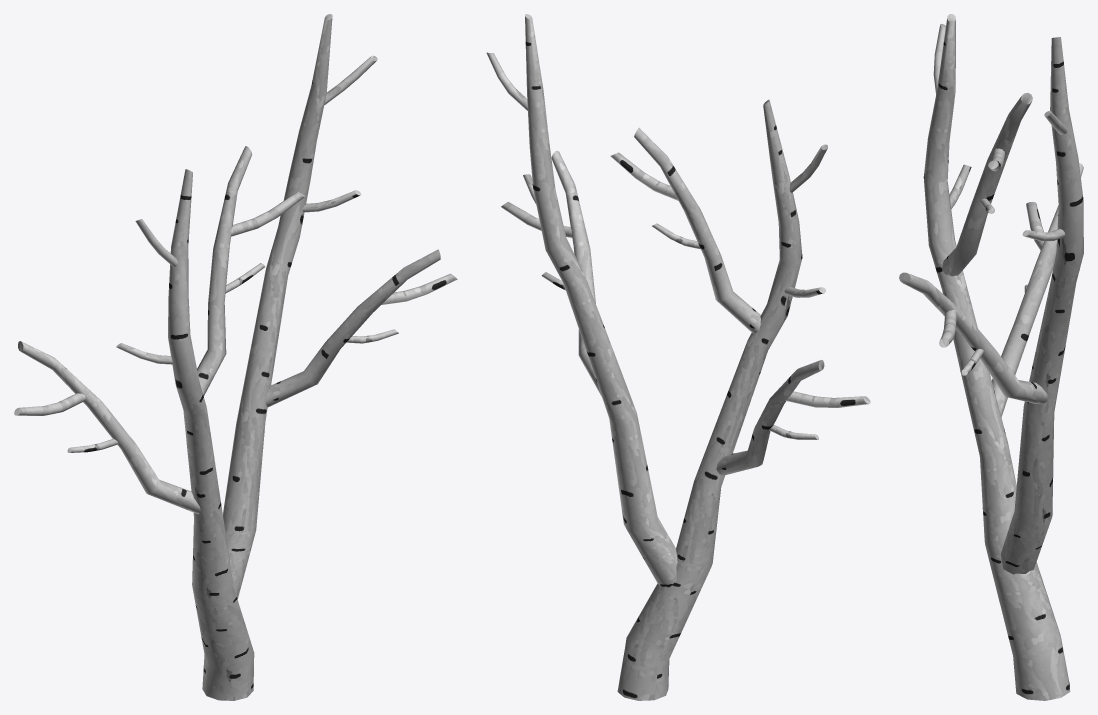
File: quaternius-textured-stylized-trees-deadbirch-8.glb
3 views of the same model, side by side, from view 1: azimuth 30°, elevation 25°; view 2: azimuth 150°, elevation 25°; view 3: azimuth 270°, elevation 25° (orthographic). The views are drawn at different scales.
Visible parts, largest first — view 1: DeadBirch_8; view 2: DeadBirch_8; view 3: DeadBirch_8.
Part boxes in pixels (x1,y1,x2,y2): DeadBirch_8: (14, 14, 457, 700); DeadBirch_8: (486, 14, 870, 700); DeadBirch_8: (899, 14, 1083, 700).
Size of the model in its own units: 6.38 by 9.77 by 2.3.
1 material, 1 textured.
